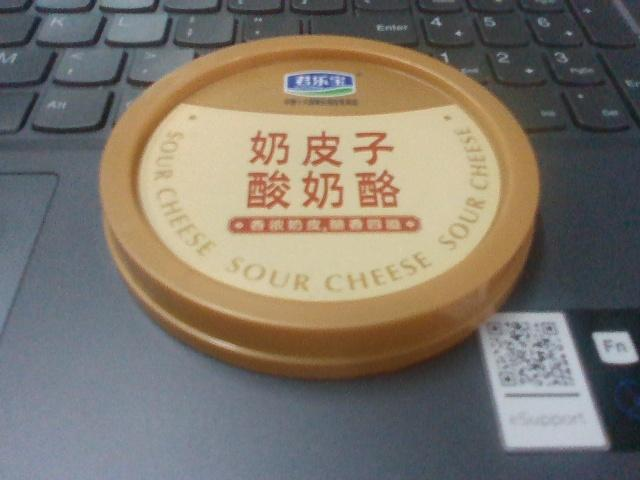lid: (98, 31, 553, 382)
